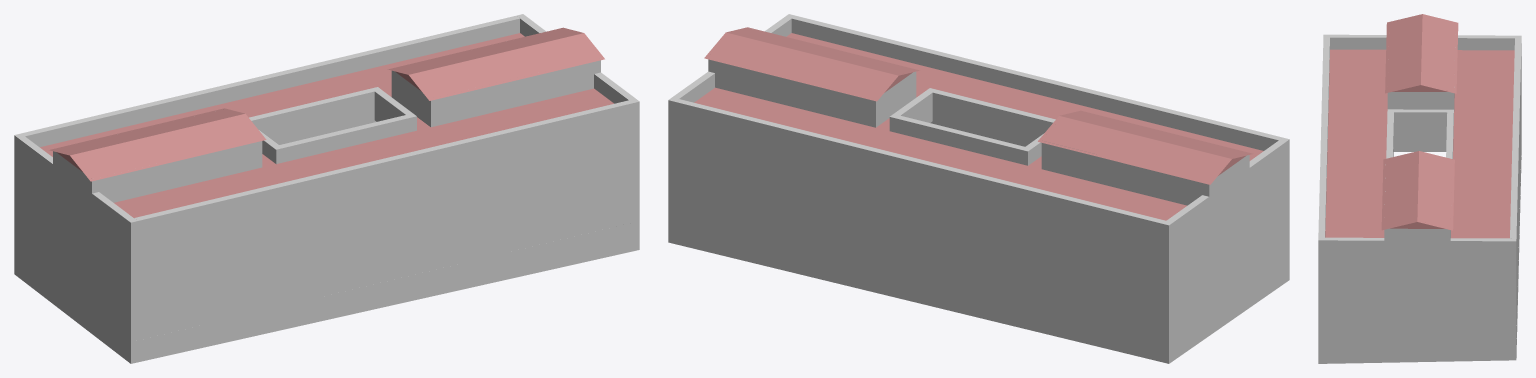
File: LOD_Block_1_85.glb
The picture shows the model from 3 angles, left to right: view 1: azimuth 30°, elevation 25°; view 2: azimuth 150°, elevation 25°; view 3: azimuth 270°, elevation 25°; orthographic projection. The views are drawn at different scales.
Visible parts, largest first — view 1: mesh_CityEngineMaterial_1189; view 2: mesh_CityEngineMaterial_1189; view 3: mesh_CityEngineMaterial_1189.
Part boxes in pixels (x1,y1,x2,y2): mesh_CityEngineMaterial_1189: (14, 14, 639, 363); mesh_CityEngineMaterial_1189: (668, 14, 1289, 363); mesh_CityEngineMaterial_1189: (1318, 14, 1521, 363).
Bounding box in the file's own units: 37.13 × 11.94 × 15.33.
